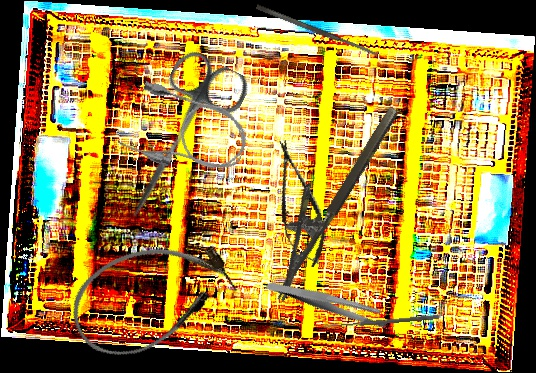Cannula: (57, 221, 246, 372), (115, 77, 255, 188)
Dressing Forceps: (264, 251, 393, 354)
Iris Scissors: (103, 45, 254, 236)
Micro Scissor: (262, 135, 334, 272)
Needle Holder: (246, 90, 402, 304)
Spatula Surgical: (255, 3, 378, 58)
Surgical Spoon: (324, 313, 439, 330)
